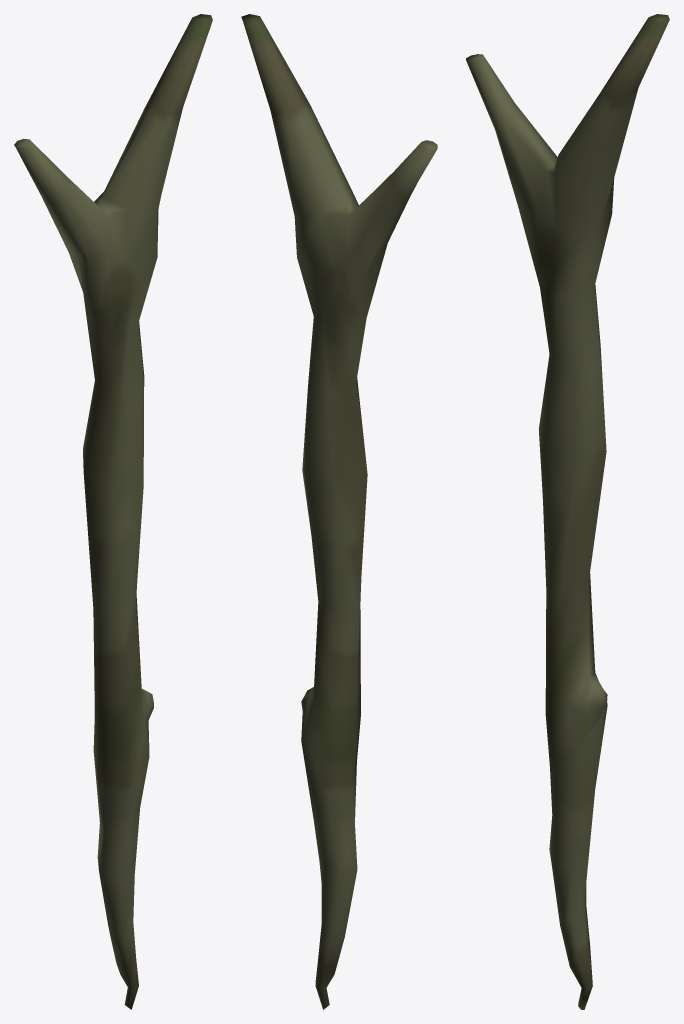
Rendered from Palo.fbx.
3 renders of one model, left to right at view 1: azimuth 30°, elevation 25°; view 2: azimuth 150°, elevation 25°; view 3: azimuth 330°, elevation 25°, orthographic. The views are drawn at different scales.
Visible parts, largest first — view 1: Palo_V1; view 2: Palo_V1; view 3: Palo_V1.
Part boxes in pixels (left/top/right/bottom): Palo_V1: left=14, top=14, right=212, bottom=1009; Palo_V1: left=241, top=14, right=437, bottom=1009; Palo_V1: left=466, top=14, right=669, bottom=1009.
Size of the model in its own units: 79.55 by 378 by 24.01.
